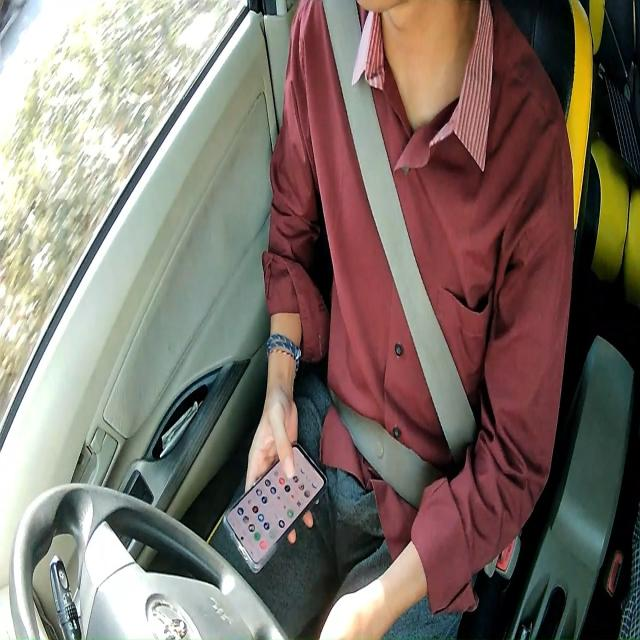phone: (222, 440, 326, 576)
